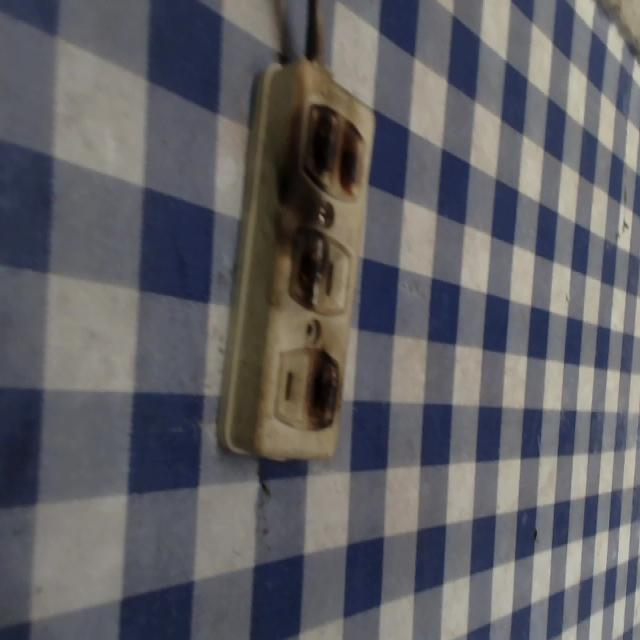-: (297, 95, 368, 206), (284, 221, 329, 311), (304, 345, 343, 431)
